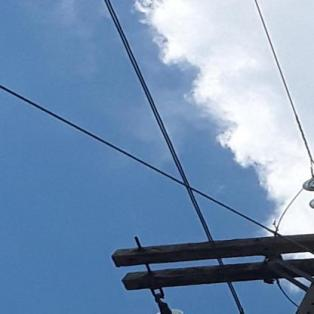Poste: (121, 238, 314, 314)
